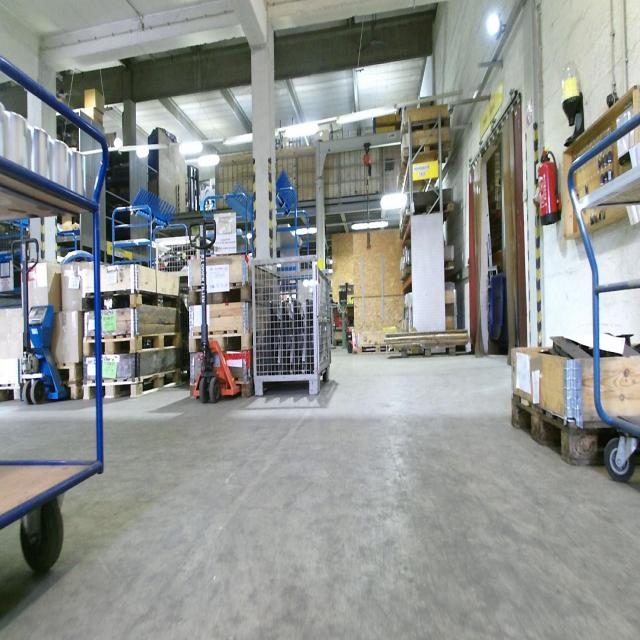pallet: (508, 384, 614, 473), (84, 364, 183, 402), (186, 277, 261, 309), (80, 289, 182, 309), (81, 331, 182, 351), (186, 377, 256, 404), (179, 327, 254, 352), (400, 128, 454, 161), (400, 103, 447, 132), (406, 201, 455, 217), (402, 344, 456, 358), (358, 346, 386, 356)
pallet_truck: (6, 229, 70, 404), (188, 219, 241, 400), (338, 282, 364, 357)
stillage: (249, 254, 332, 398), (152, 234, 202, 271)
